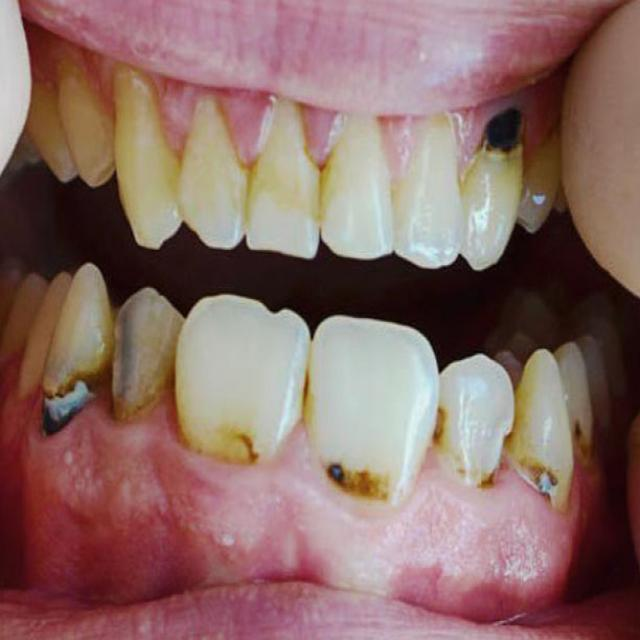caries: (482, 102, 538, 170), (38, 370, 94, 432), (326, 455, 350, 493)
